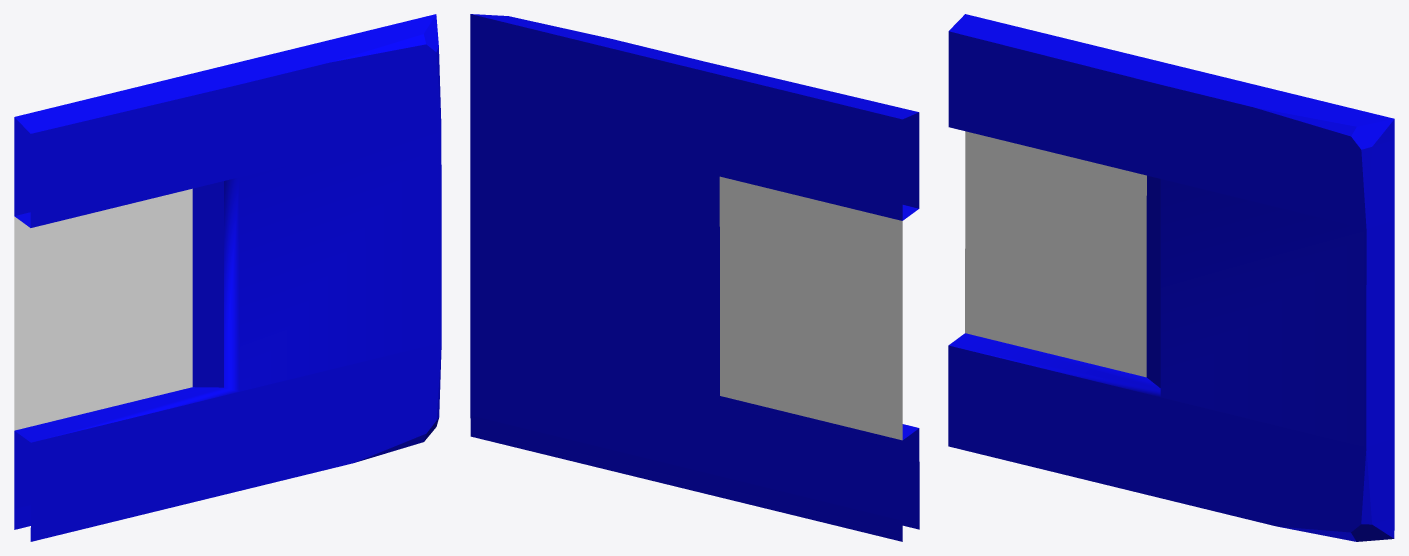
File: Wall Right.fbx
3 views of the same model, side by side, from view 1: azimuth 30°, elevation 25°; view 2: azimuth 150°, elevation 25°; view 3: azimuth 330°, elevation 25° (orthographic). The views are drawn at different scales.
Visible parts, largest first — view 1: Window_Side1_Window_Side1_polySurface3; view 2: Window_Side1_Window_Side1_polySurface3; view 3: Window_Side1_Window_Side1_polySurface3.
Boxes of the visible parts, x1=… form: Window_Side1_Window_Side1_polySurface3: x1=14, y1=14, x2=441, y2=541; Window_Side1_Window_Side1_polySurface3: x1=470, y1=14, x2=919, y2=541; Window_Side1_Window_Side1_polySurface3: x1=948, y1=14, x2=1394, y2=541.
Size of the model in its own units: 405 by 378 by 27.72.
